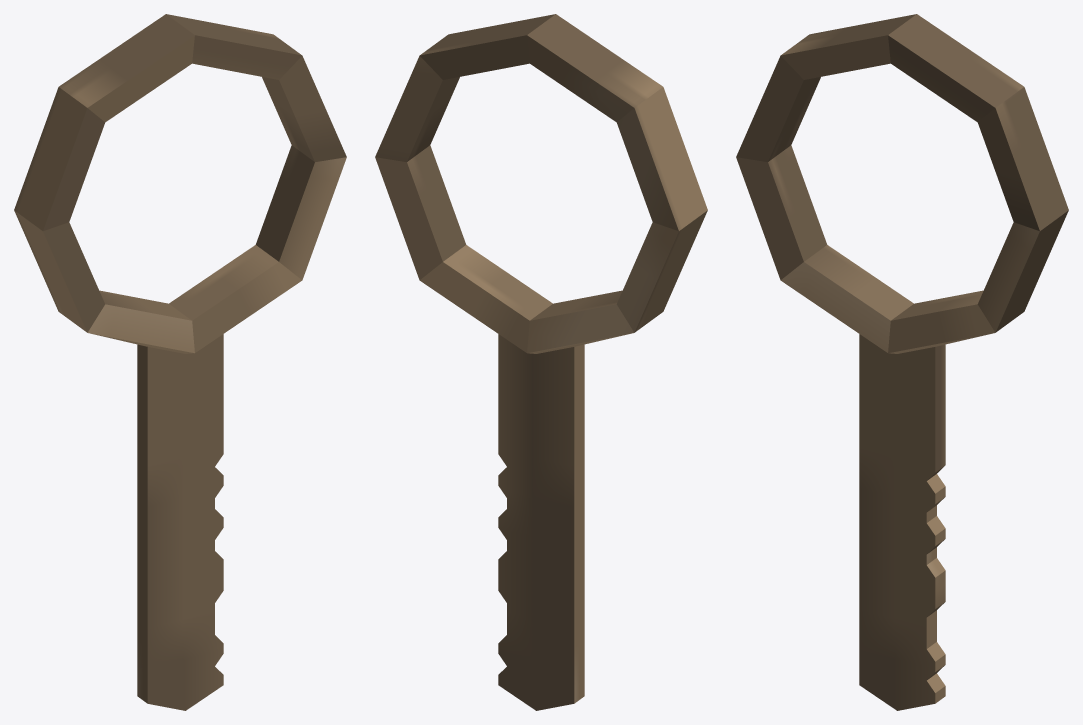
Rendered from key.fbx.
3 renders of one model, left to right at view 1: azimuth 30°, elevation 25°; view 2: azimuth 150°, elevation 25°; view 3: azimuth 330°, elevation 25°, orthographic.
Visible parts, largest first — view 1: Cylinder.028; view 2: Cylinder.028; view 3: Cylinder.028.
Part boxes in pixels (x1,y1,x2,y2): Cylinder.028: (14,14,346,710); Cylinder.028: (375,14,707,710); Cylinder.028: (736,14,1068,710).
Bounding box in the file's own units: 2.91 × 6.24 × 0.4795.
